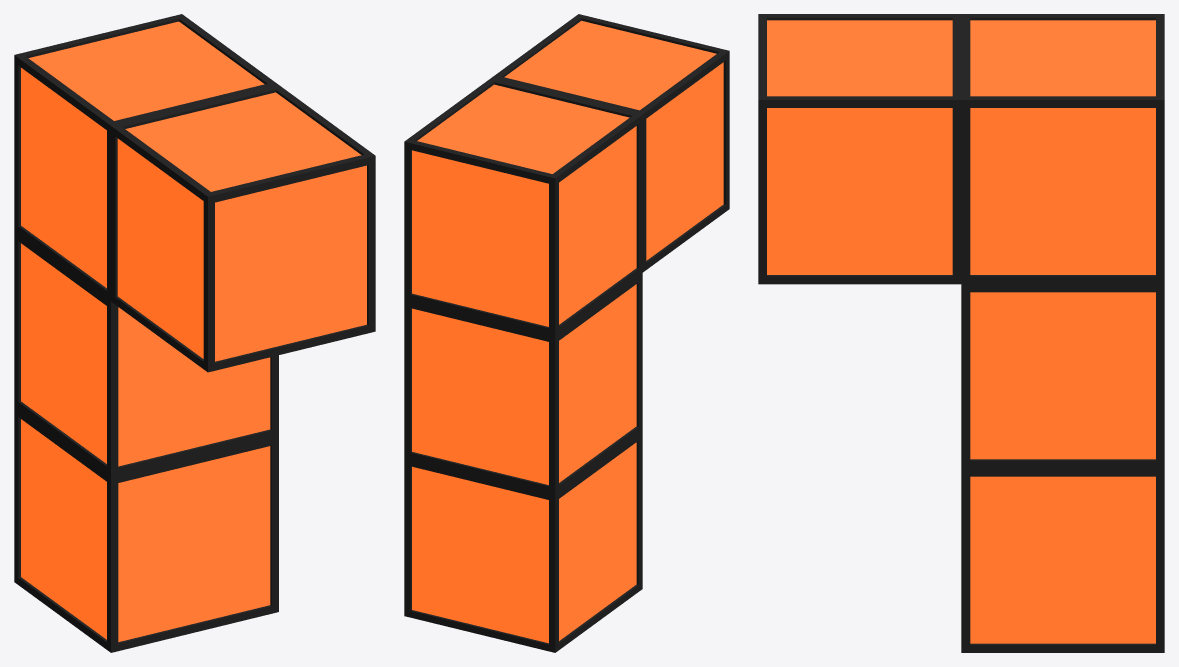
The model's file is orange_ricky.fbx.
The picture shows the model from 3 angles, left to right: view 1: azimuth 30°, elevation 25°; view 2: azimuth 150°, elevation 25°; view 3: azimuth 270°, elevation 25°; orthographic projection. The views are drawn at different scales.
Parts seen in each view (by area): view 1: Orange Ricky; view 2: Orange Ricky; view 3: Orange Ricky.
Boxes of the visible parts, x1,y1,x2,y2 form: Orange Ricky: (14,14,375,652); Orange Ricky: (404,14,729,652); Orange Ricky: (758,14,1164,652).
Size of the model in its own units: 39.44 by 118 by 78.87.
